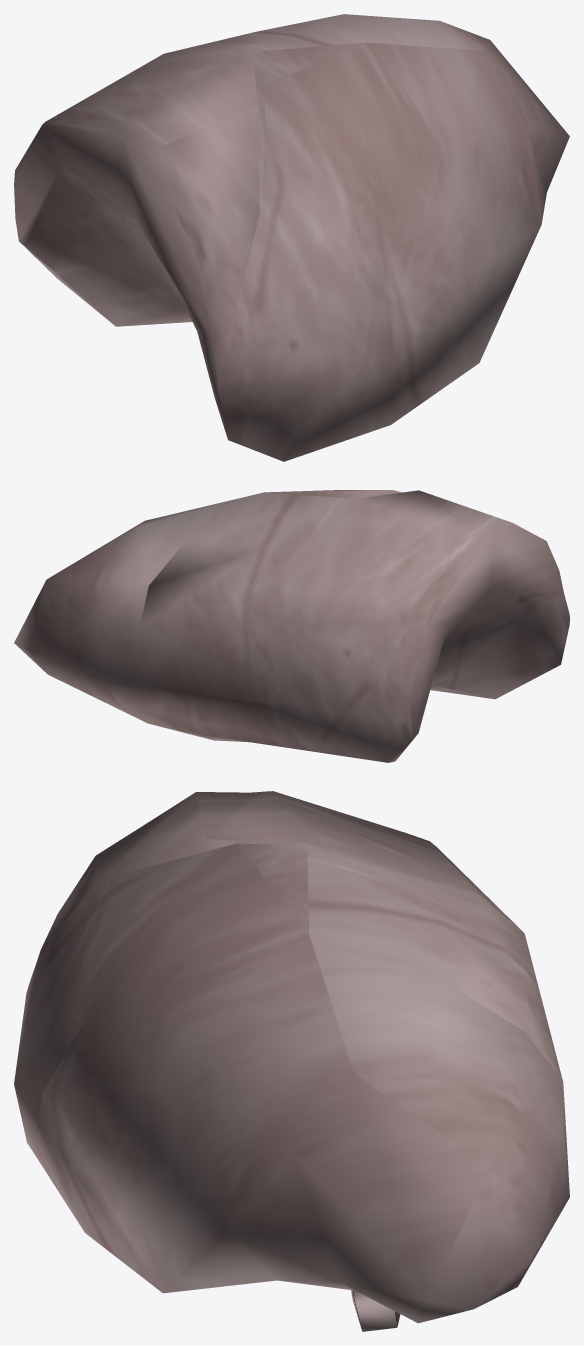
File: TCA_LungR.fbx
3 views of the same model, one above another, from view 1: azimuth 30°, elevation 25°; view 2: azimuth 150°, elevation 25°; view 3: azimuth 270°, elevation 25° (orthographic). The views are drawn at different scales.
Visible parts, largest first — view 1: LungR; view 2: LungR; view 3: LungR.
Boxes of the visible parts, <box> form: LungR: <box>14,14,569,461</box>; LungR: <box>14,490,569,762</box>; LungR: <box>14,791,569,1331</box>.
Bounding box in the file's own units: 0.3921 × 0.2242 × 0.3114.
